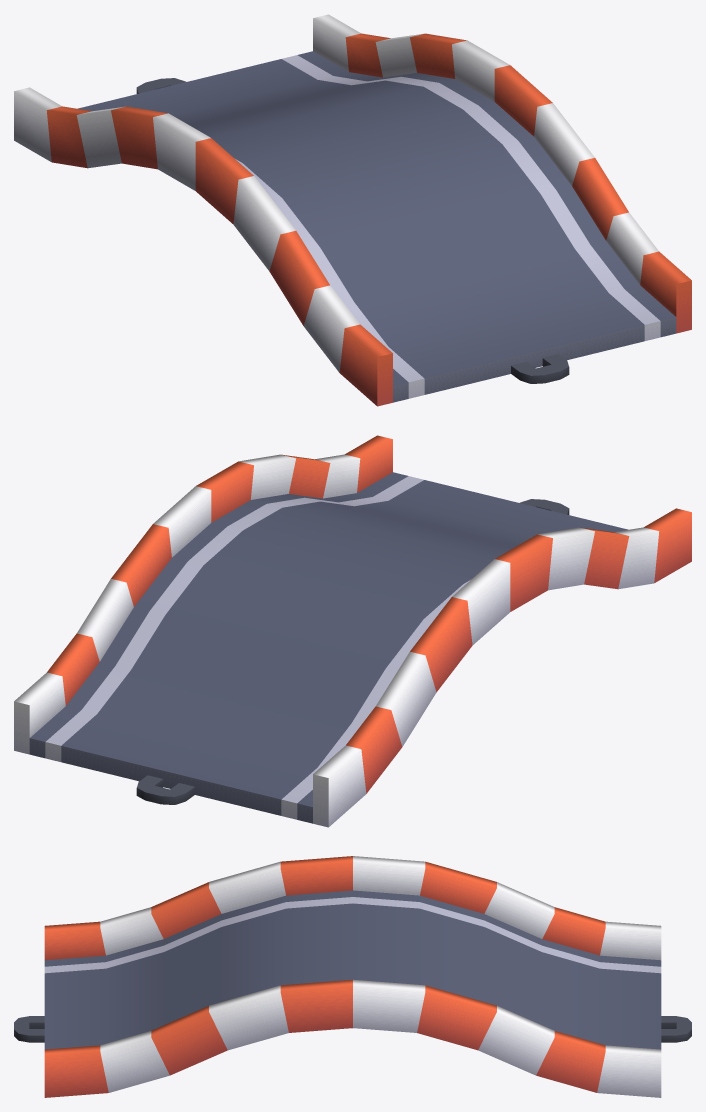
File: track-road-wide-straight-bump-up.glb
3 views of the same model, one above another, from view 1: azimuth 30°, elevation 25°; view 2: azimuth 150°, elevation 25°; view 3: azimuth 270°, elevation 25° (orthographic). The views are drawn at different scales.
Visible parts, largest first — view 1: track-road-wide-straight-bump-up; view 2: track-road-wide-straight-bump-up; view 3: track-road-wide-straight-bump-up.
Part boxes in pixels (<box>): track-road-wide-straight-bump-up: <box>14,14,691,406</box>; track-road-wide-straight-bump-up: <box>14,435,691,827</box>; track-road-wide-straight-bump-up: <box>14,856,691,1097</box>.
Size of the model in its own units: 2 by 0.8 by 4.4.
1 material, 1 textured.
